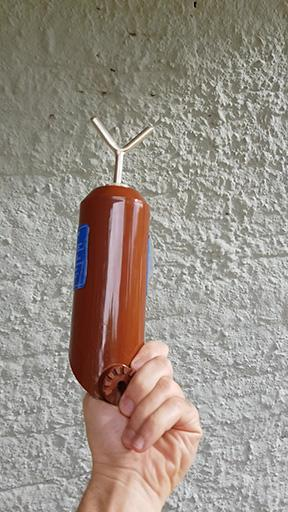Detector_Tensao_Contato: (68, 115, 156, 404)
